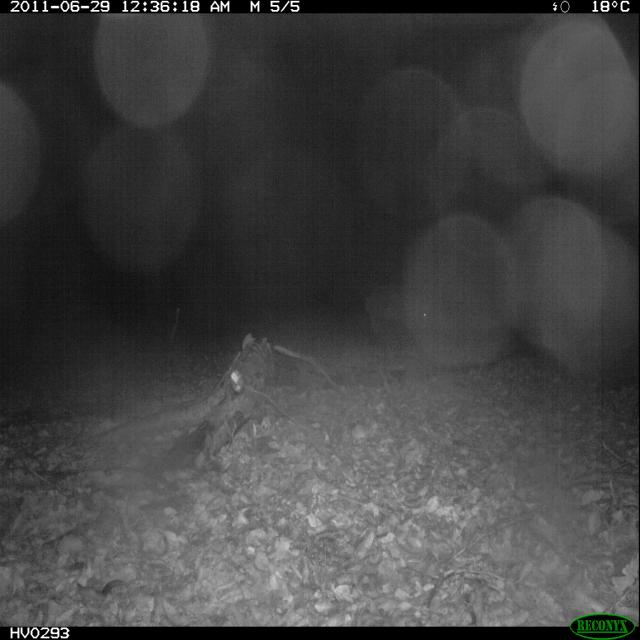boar: (353, 255, 446, 358)
